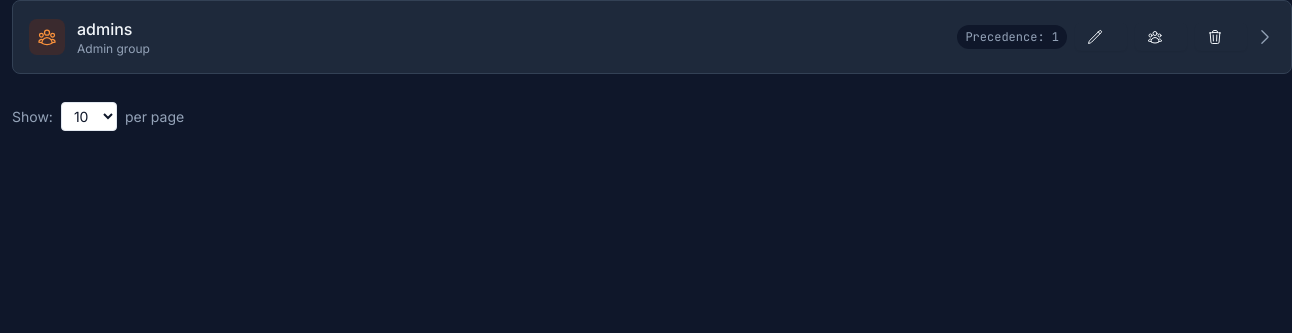
Scenario: Cognito Components Integration › CognitoGroupList › expands and collapses on row click (reactive)
expect the text "Role ARN" is not shown: met
Click the element with class "cursor-pointer" that starts with "admins" at {"x": 47, "y": 37}, box left=29, top=19, right=1275, bottom=56
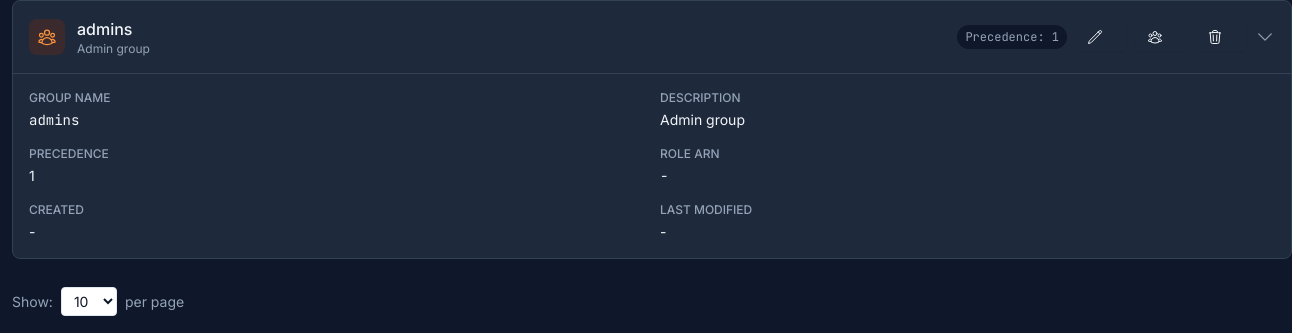
expect the text "Role ARN" is shown: met, box left=660, top=146, right=720, bottom=161
Click the element with class "cursor-pointer" that starts with "admins" at {"x": 47, "y": 37}, box left=29, top=19, right=1275, bottom=56
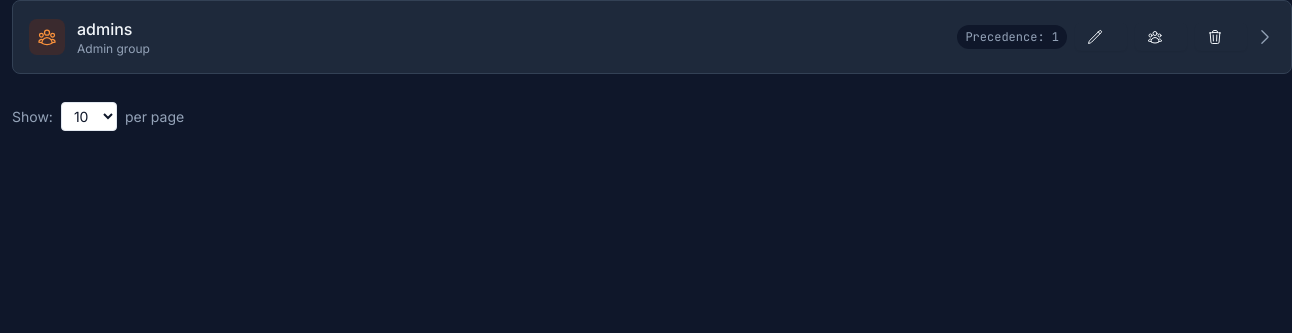
expect the text "Role ARN" is gone: met
